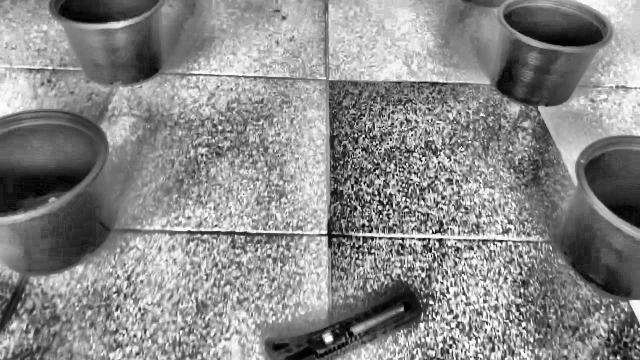pot: (0, 110, 113, 276), (558, 136, 640, 304), (491, 0, 614, 107), (48, 0, 166, 86)
